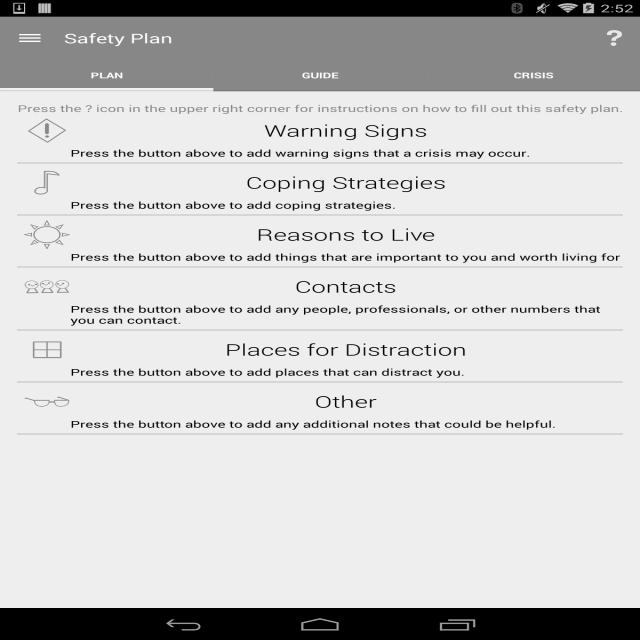Button: (17, 166, 623, 198), (17, 218, 623, 250), (17, 270, 623, 302), (17, 334, 623, 366), (17, 386, 623, 418), (17, 115, 623, 146)
ImageButton: (0, 19, 60, 57)
TextView: (70, 303, 623, 326), (17, 102, 623, 115), (213, 59, 427, 92), (426, 59, 640, 91), (0, 59, 213, 91), (70, 251, 620, 263), (70, 418, 556, 430), (71, 147, 530, 159), (70, 366, 464, 378), (70, 199, 396, 211), (64, 29, 173, 47), (589, 22, 640, 54)
